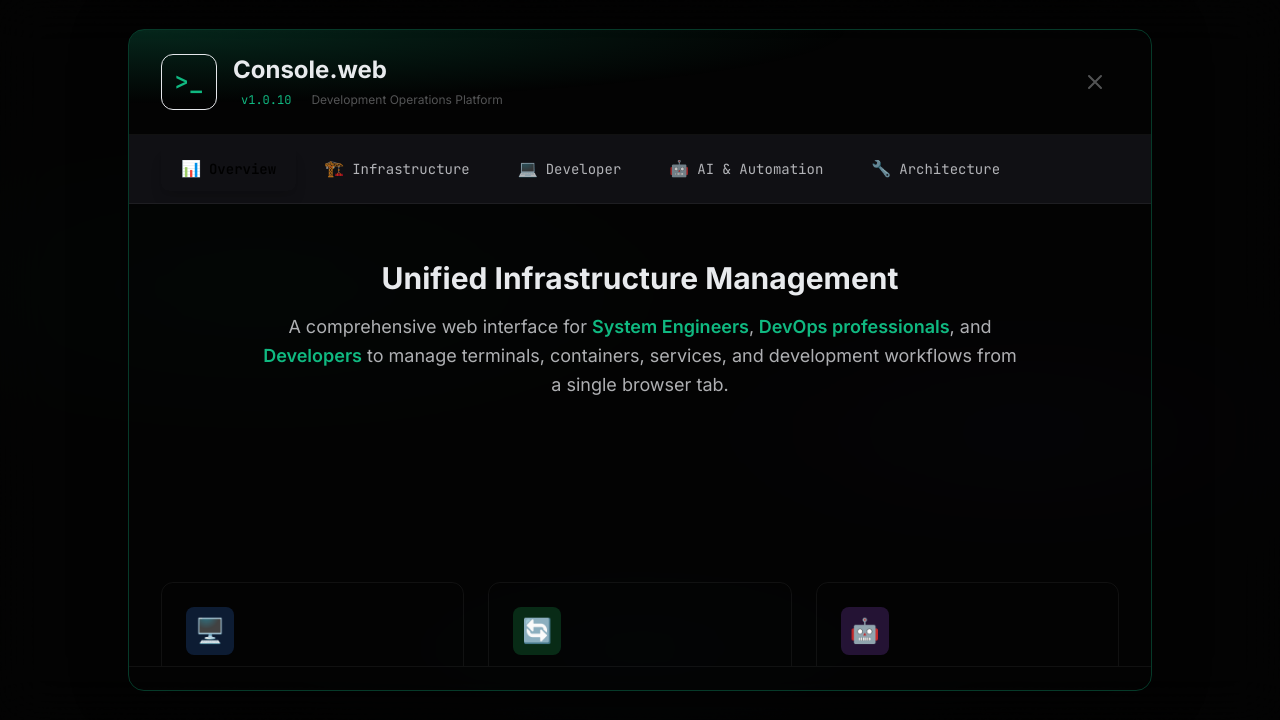
Scenario: AboutModal › tab navigation › should switch to architecture tab
Step 1. Click the button "🔧 Architecture" → (936, 169), box [851, 147, 1020, 191]
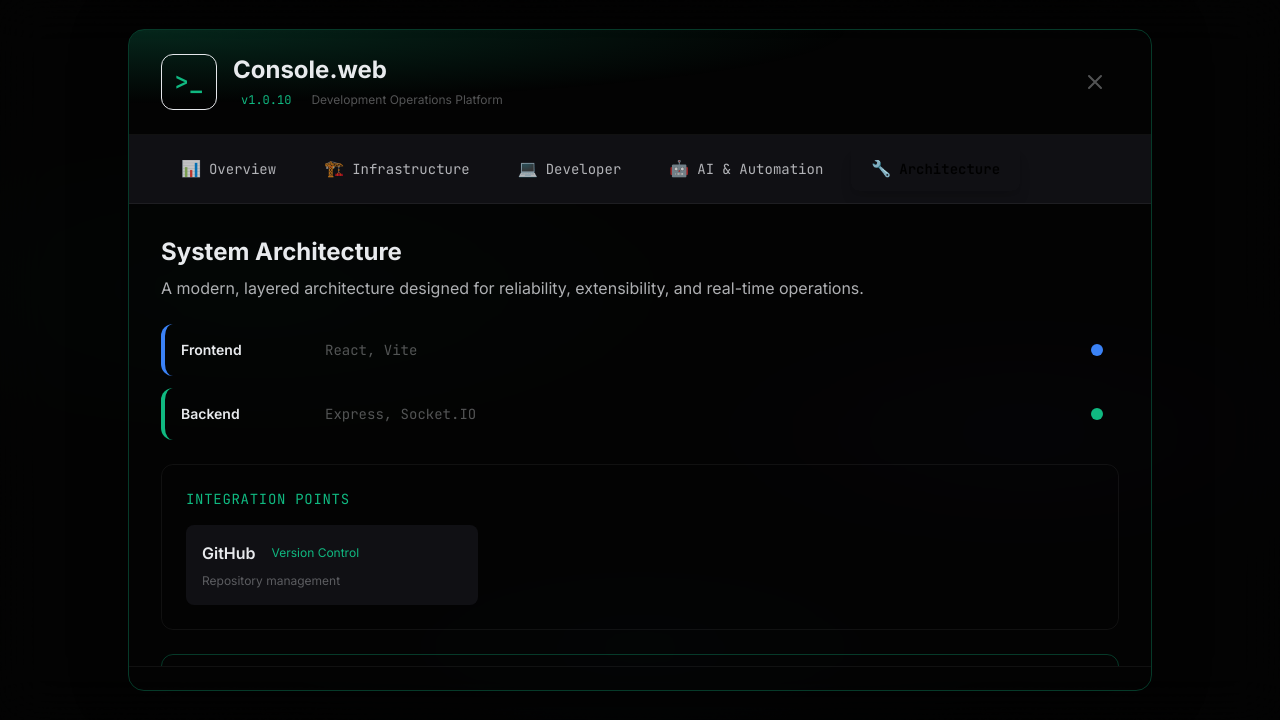
Now the heading "System Architecture" is shown, box [161, 237, 402, 266]
